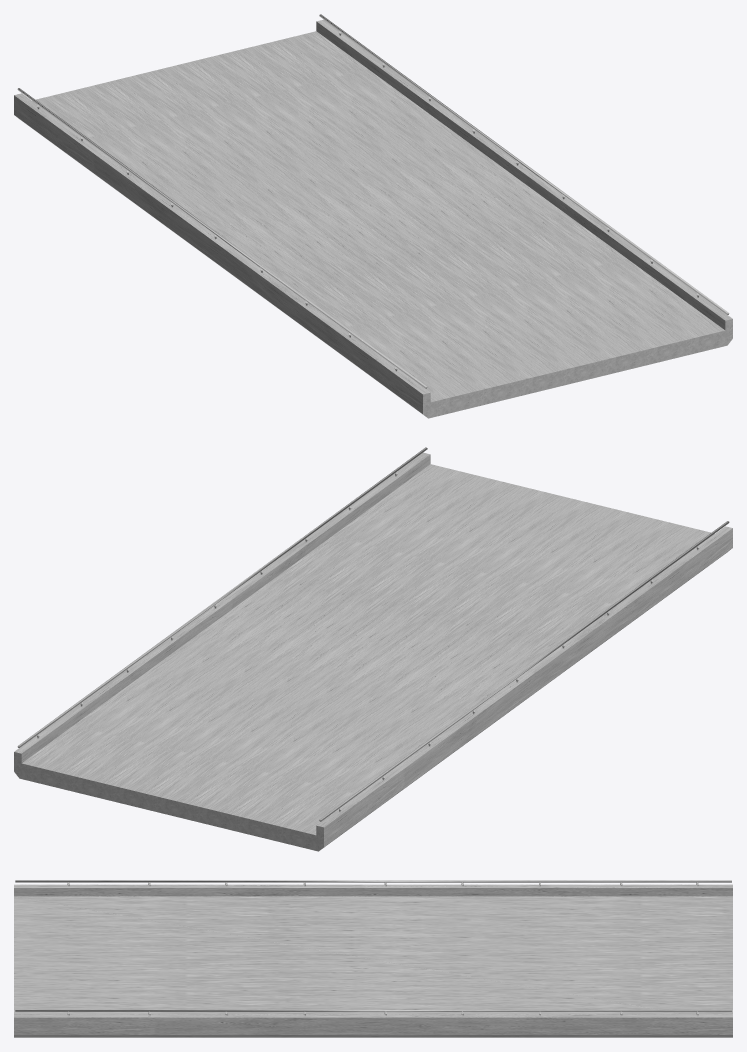
The model's file is bridge1.FBX.
3 renders of one model, top to bottom at view 1: azimuth 30°, elevation 25°; view 2: azimuth 150°, elevation 25°; view 3: azimuth 270°, elevation 25°, orthographic. The views are drawn at different scales.
Visible parts, largest first — view 1: Cylinder010; view 2: Cylinder010; view 3: Cylinder010.
Part boxes in pixels (x1=…): Cylinder010: x1=14, y1=14, x2=732, y2=418; Cylinder010: x1=14, y1=447, x2=732, y2=851; Cylinder010: x1=14, y1=880, x2=732, y2=1037.
Bounding box in the file's own units: 56.84 × 5.63 × 130.
Materials: 1 (1 with a texture image).
